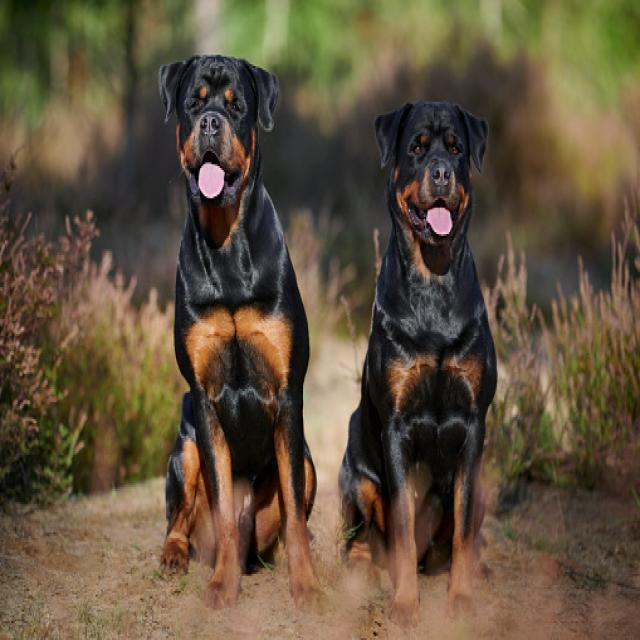rottweiler: (147, 24, 290, 232), (358, 83, 505, 274)
